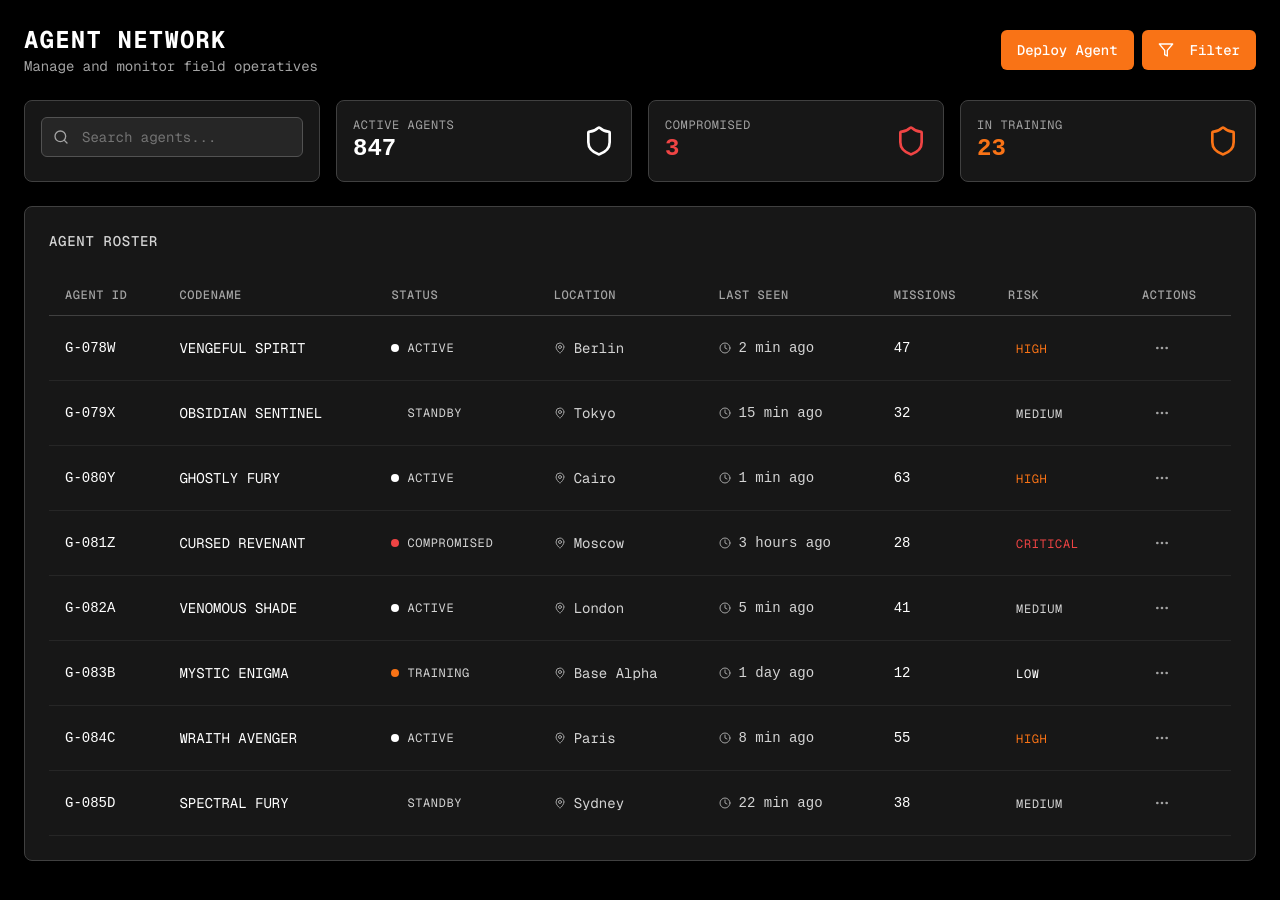
Scenario: AgentNetworkPage › filters agents by name when searching
The image size is (1280, 900).
Type "VENGEFUL" into the field with placeholder "Search agents...".
click(172, 137); type("VENGEFUL")  # box [41,117,303,157]
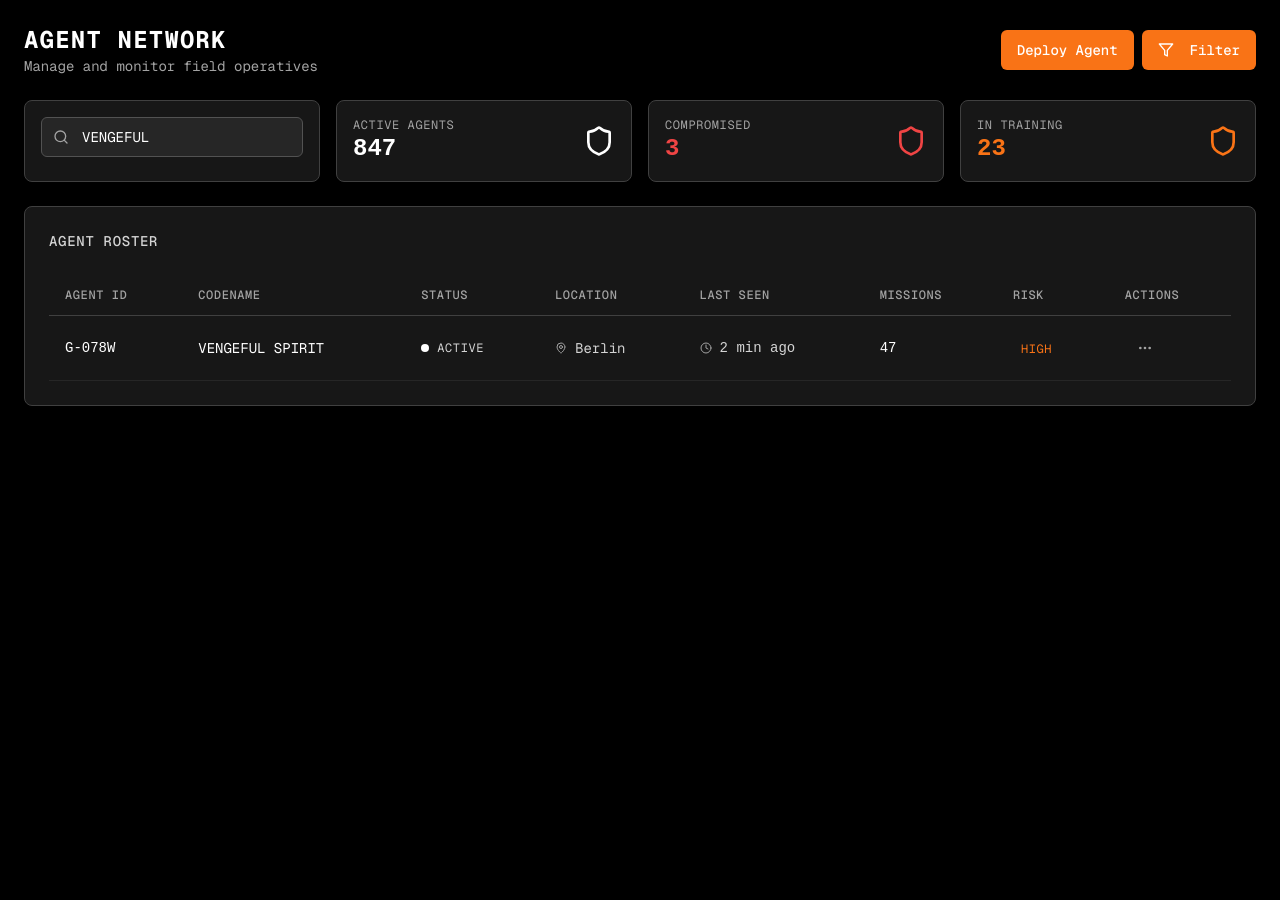
Expected: the text "VENGEFUL SPIRIT" is shown, [182,316,405,380]
Result: the text "OBSIDIAN SENTINEL" is gone
Result: the text "GHOSTLY FURY" is gone
